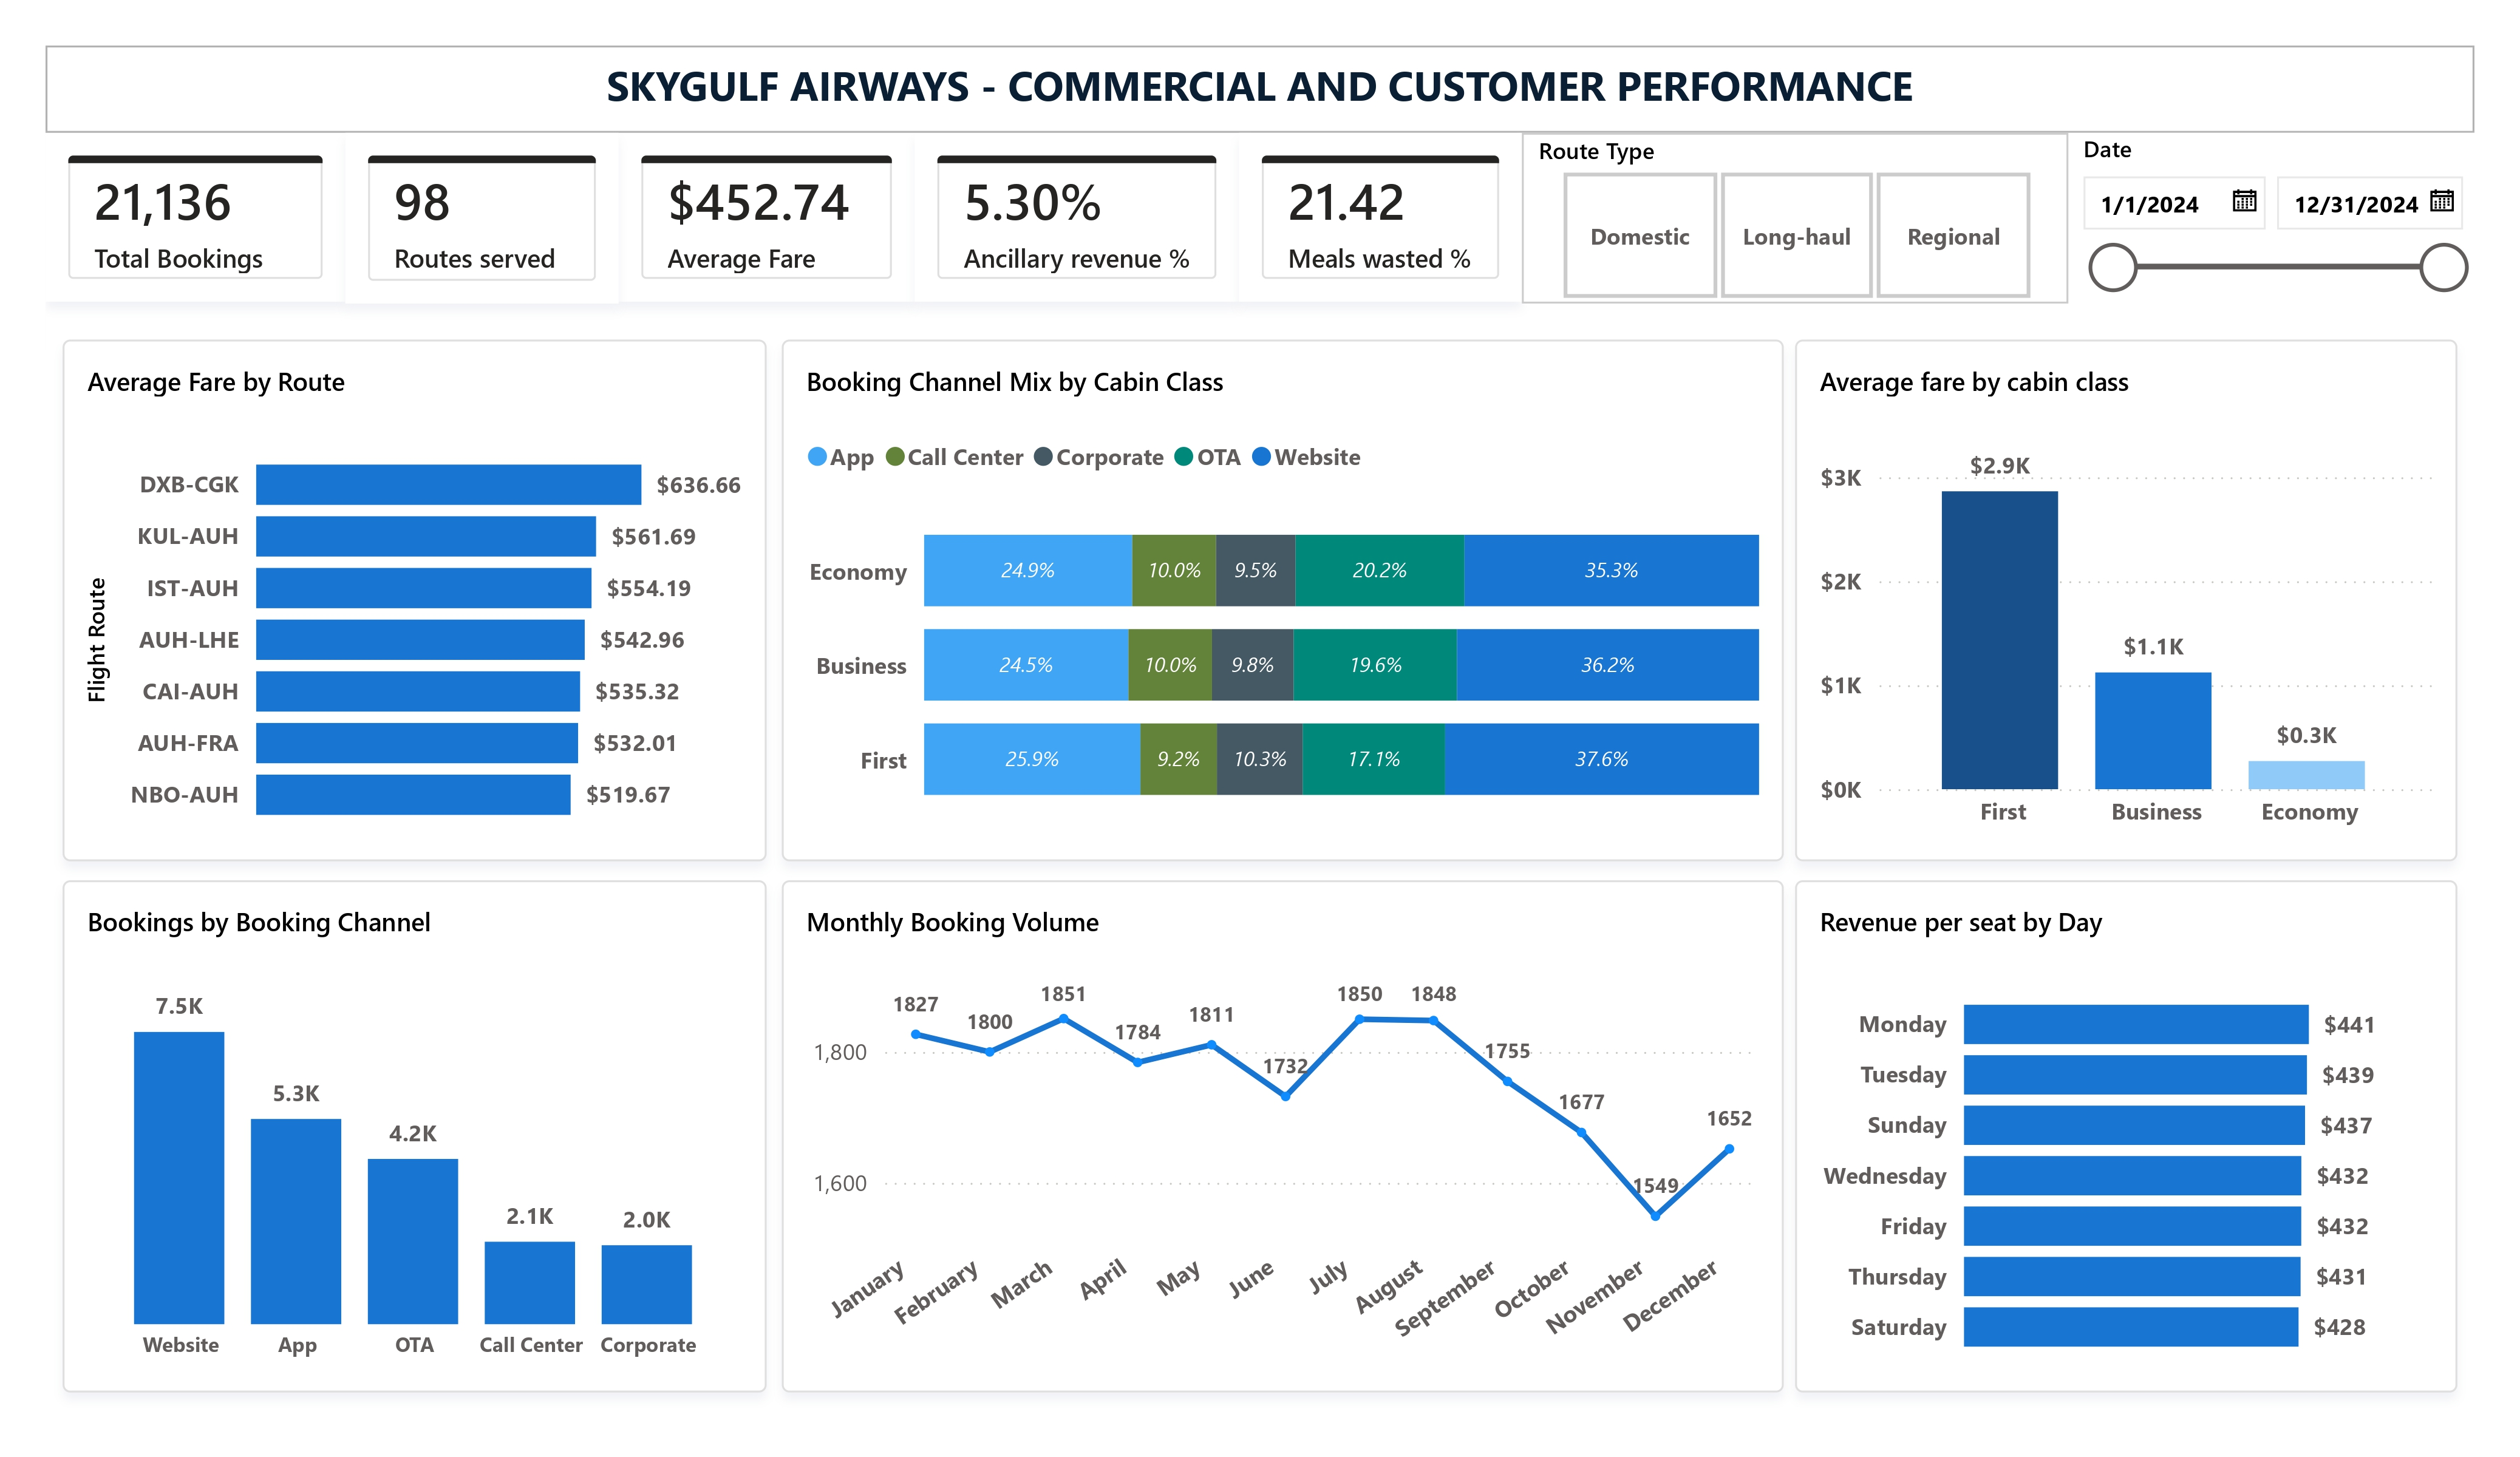

The page's visual inventory and layout, read from the dashboard file:
{"tool":"powerbi","page":{"name":"Page 3","canvas":[1280,720],"ordinal":2},"visuals":[{"type":"cardVisual","fields":{"Data":["Count(Bookings_Sample.booking_id)"]},"box":[0,45.7,157.6,89.5],"z":0},{"type":"cardVisual","fields":{"Data":["Avg(Bookings_Sample.fare_usd)"]},"box":[301.5,45.7,156.6,89.5],"z":1000},{"type":"hundredPercentStackedBarChart","title":"Booking Channel Mix by Cabin Class","fields":{"Category":["Bookings_Sample.cabin_class"],"Series":["Bookings_Sample.booking_channel"],"Y":["CountNonNull(Bookings_Sample.booking_id)"]},"box":[388,155,528,275],"z":2000},{"type":"clusteredColumnChart","title":"Bookings by Booking Channel","fields":{"Category":["Bookings_Sample.booking_channel"],"Y":["CountNonNull(Bookings_Sample.booking_id)"]},"box":[9,440,371,270],"z":3000},{"type":"barChart","title":"Average Fare by Route","fields":{"Category":["Routes.Flight Route"],"Y":["Avg(Bookings_Sample.fare_usd)"]},"box":[9,155,371,275],"z":4000},{"type":"lineChart","title":"Monthly Booking Volume","fields":{"Category":["Bookings_Sample.booking_date.Variation.Date Hierarchy.Month","Bookings_Sample.booking_date.Variation.Date Hierarchy.Day"],"Y":["CountNonNull(Bookings_Sample.booking_id)"]},"box":[388,440,528,270],"z":5000},{"type":"columnChart","title":"Average fare by cabin class","fields":{"Category":["Bookings_Sample.cabin_class"],"Y":["Avg(Bookings_Sample.fare_usd)"]},"box":[922,155,349,275],"z":6000},{"type":"cardVisual","fields":{"Data":["Flights.Ancillary revenue %"]},"box":[458.1,45.7,171.2,89.5],"z":7000},{"type":"barChart","title":"Revenue per seat by Day","fields":{"Category":["Flights.Day Name"],"Y":["Flights.Revenue per seat"]},"box":[922,440,349,270],"z":8000},{"type":"textbox","box":[0,0,1279.7,45.7],"z":9000},{"type":"slicer","fields":{"Values":["Flights.flight_date"]},"box":[1066,45.7,214,89.5],"z":10000},{"type":"cardVisual","fields":{"Data":["Catering.Average waste %"]},"box":[629.3,45.7,148.8,89.5],"z":11000},{"type":"slicer","fields":{"Values":["Routes.route_type"]},"box":[778.1,45.7,287.9,90.5],"z":12000},{"type":"cardVisual","fields":{"Data":["Count(Routes.Flight Route)"]},"box":[157.6,45.7,144,90.5],"z":13000}]}

Visuals, with their boxes on the page's 1280x720 design canvas (x1, y1, x2, y2). These are canvas units, not pixel positions in the 2520x1457 screenshot, which may show the page scaled, cropped or inside an application window:
cardVisual - Count(Bookings_Sample.booking_id): bbox=[0, 46, 158, 135]
cardVisual - Avg(Bookings_Sample.fare_usd): bbox=[302, 46, 458, 135]
"Booking Channel Mix by Cabin Class" hundredPercentStackedBarChart: bbox=[388, 155, 916, 430]
"Bookings by Booking Channel" clusteredColumnChart: bbox=[9, 440, 380, 710]
"Average Fare by Route" barChart: bbox=[9, 155, 380, 430]
"Monthly Booking Volume" lineChart: bbox=[388, 440, 916, 710]
"Average fare by cabin class" columnChart: bbox=[922, 155, 1271, 430]
cardVisual - Flights.Ancillary revenue %: bbox=[458, 46, 629, 135]
"Revenue per seat by Day" barChart: bbox=[922, 440, 1271, 710]
textbox: bbox=[0, 0, 1280, 46]
slicer - Flights.flight_date: bbox=[1066, 46, 1280, 135]
cardVisual - Catering.Average waste %: bbox=[629, 46, 778, 135]
slicer - Routes.route_type: bbox=[778, 46, 1066, 136]
cardVisual - Count(Routes.Flight Route): bbox=[158, 46, 302, 136]
